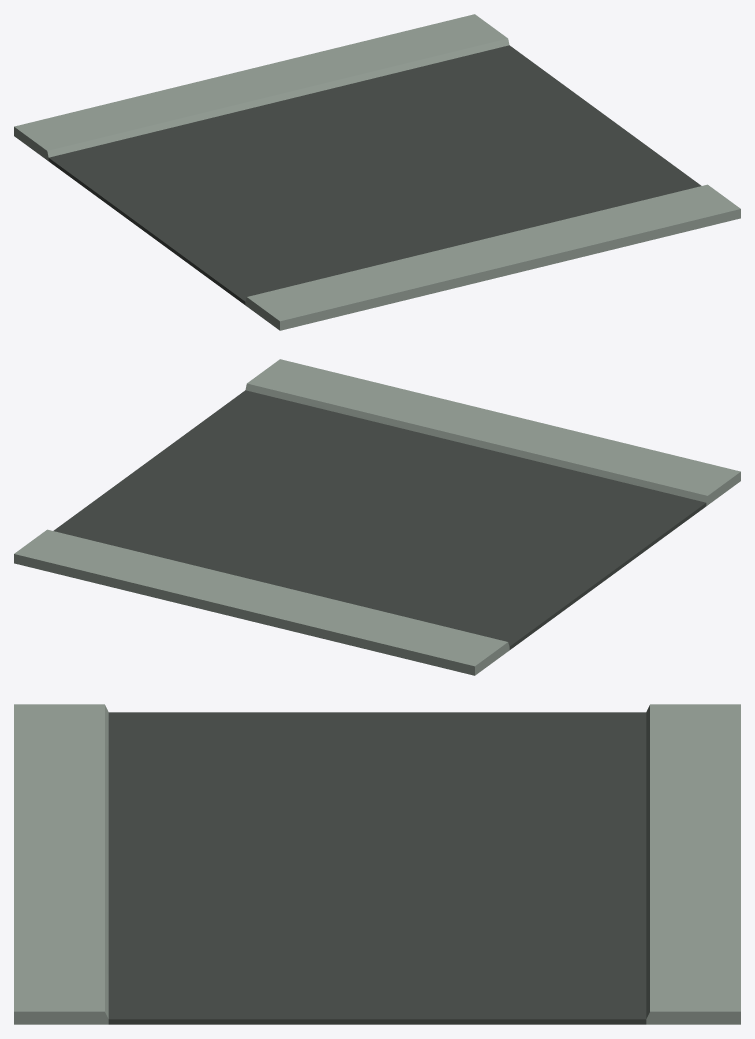
The model's file is road.004.obj.
3 renders of one model, top to bottom at view 1: azimuth 30°, elevation 25°; view 2: azimuth 150°, elevation 25°; view 3: azimuth 270°, elevation 25°, orthographic. The views are drawn at different scales.
Parts seen in each view (by area): view 1: Road.004; view 2: Road.004; view 3: Road.004.
Boxes of the visible parts, x1,y1,x2,y2 form: Road.004: (14, 14, 740, 330); Road.004: (14, 359, 740, 675); Road.004: (14, 704, 740, 1024).
Bounding box in the file's own units: 2 × 0.0393 × 2.
Materials: 1 (1 with a texture image).
